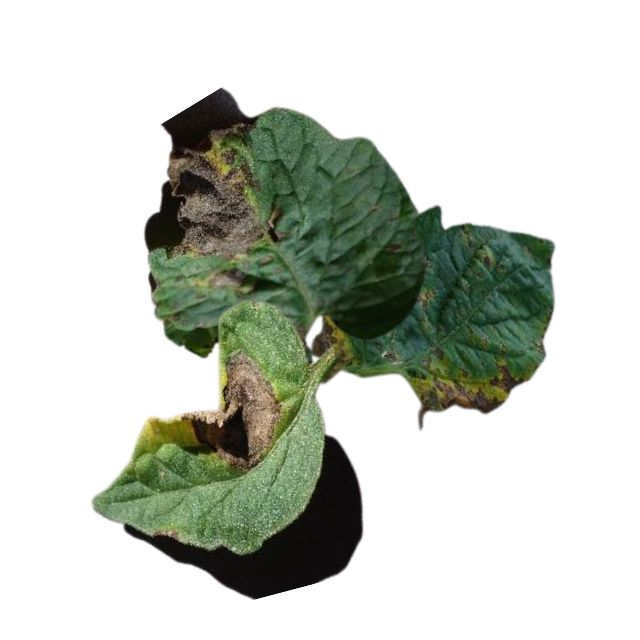Early_blight: (160, 118, 286, 256), (180, 350, 282, 471), (402, 360, 526, 412), (310, 314, 348, 376), (204, 268, 244, 288)
